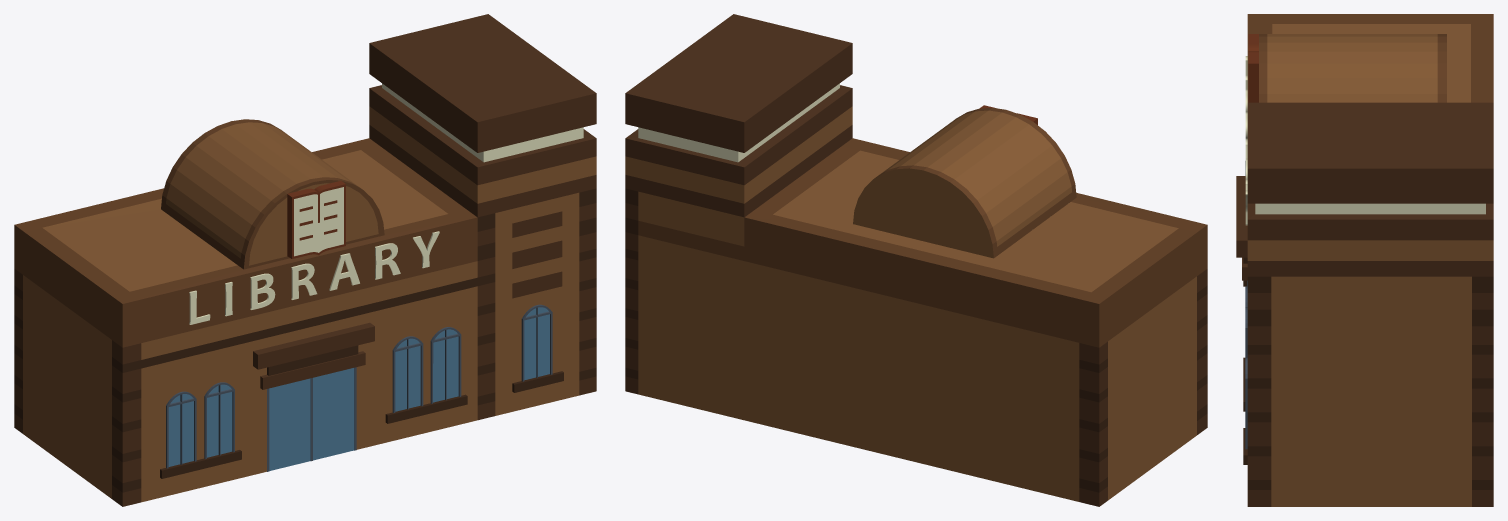
File: Library.fbx
The picture shows the model from 3 angles, left to right: view 1: azimuth 30°, elevation 25°; view 2: azimuth 150°, elevation 25°; view 3: azimuth 270°, elevation 25°; orthographic projection. The views are drawn at different scales.
Visible parts, largest first — view 1: Cube; view 2: Cube; view 3: Cube.
Boxes of the visible parts, box(x1,y1,x2,y2) form: Cube: box(14, 14, 596, 506); Cube: box(625, 14, 1207, 506); Cube: box(1236, 14, 1493, 506).
Size of the model in its own units: 1079 by 648 by 447.
